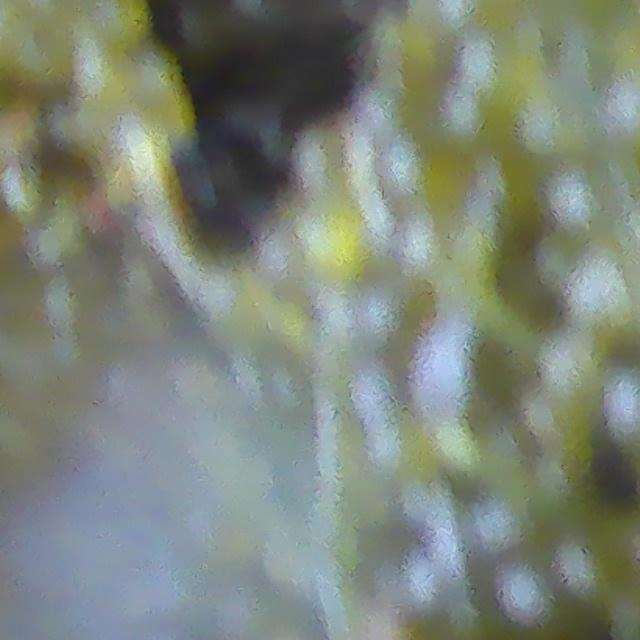SeaGrape: (465, 485, 533, 554), (604, 373, 640, 438)
